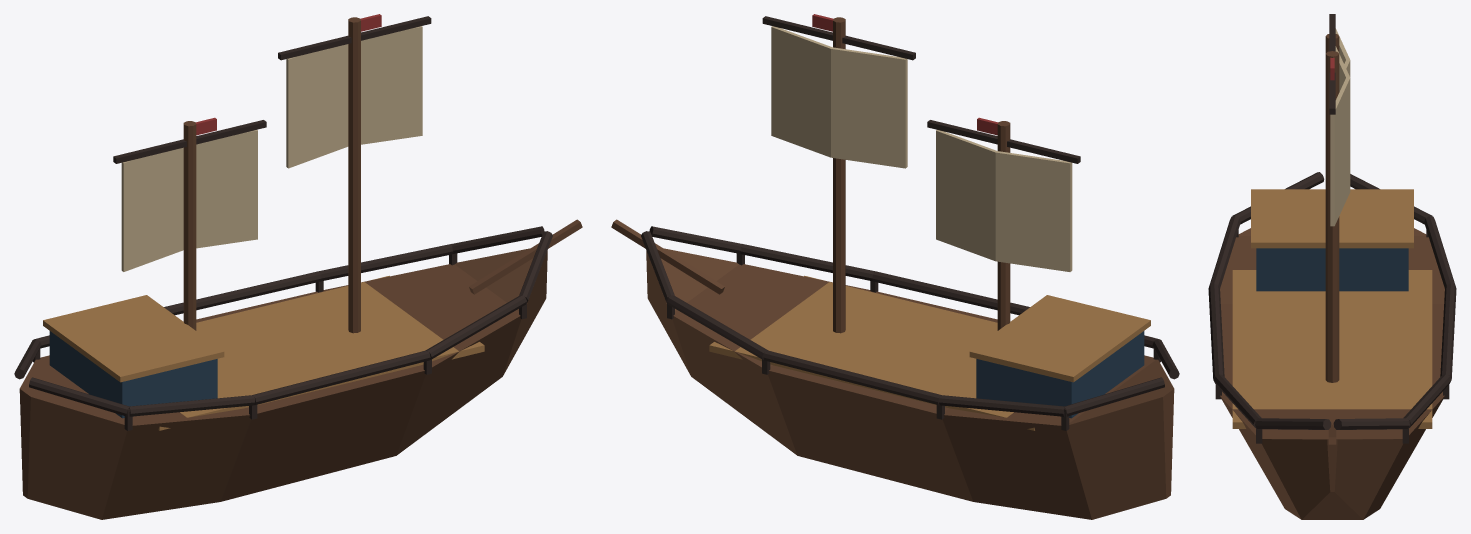
Rendered from PirateCove_Landmark_Simple.glb.
The picture shows the model from 3 angles, left to right: view 1: azimuth 30°, elevation 25°; view 2: azimuth 150°, elevation 25°; view 3: azimuth 270°, elevation 25°; orthographic projection. The views are drawn at different scales.
Visible parts, largest first — view 1: PirateCove_Landmark_Simple; view 2: PirateCove_Landmark_Simple; view 3: PirateCove_Landmark_Simple.
Boxes of the visible parts, x1=… form: PirateCove_Landmark_Simple: x1=14, y1=14, x2=582, y2=519; PirateCove_Landmark_Simple: x1=611, y1=14, x2=1179, y2=519; PirateCove_Landmark_Simple: x1=1208, y1=14, x2=1456, y2=519.
Size of the model in its own units: 12.91 by 9.4 by 4.72.
